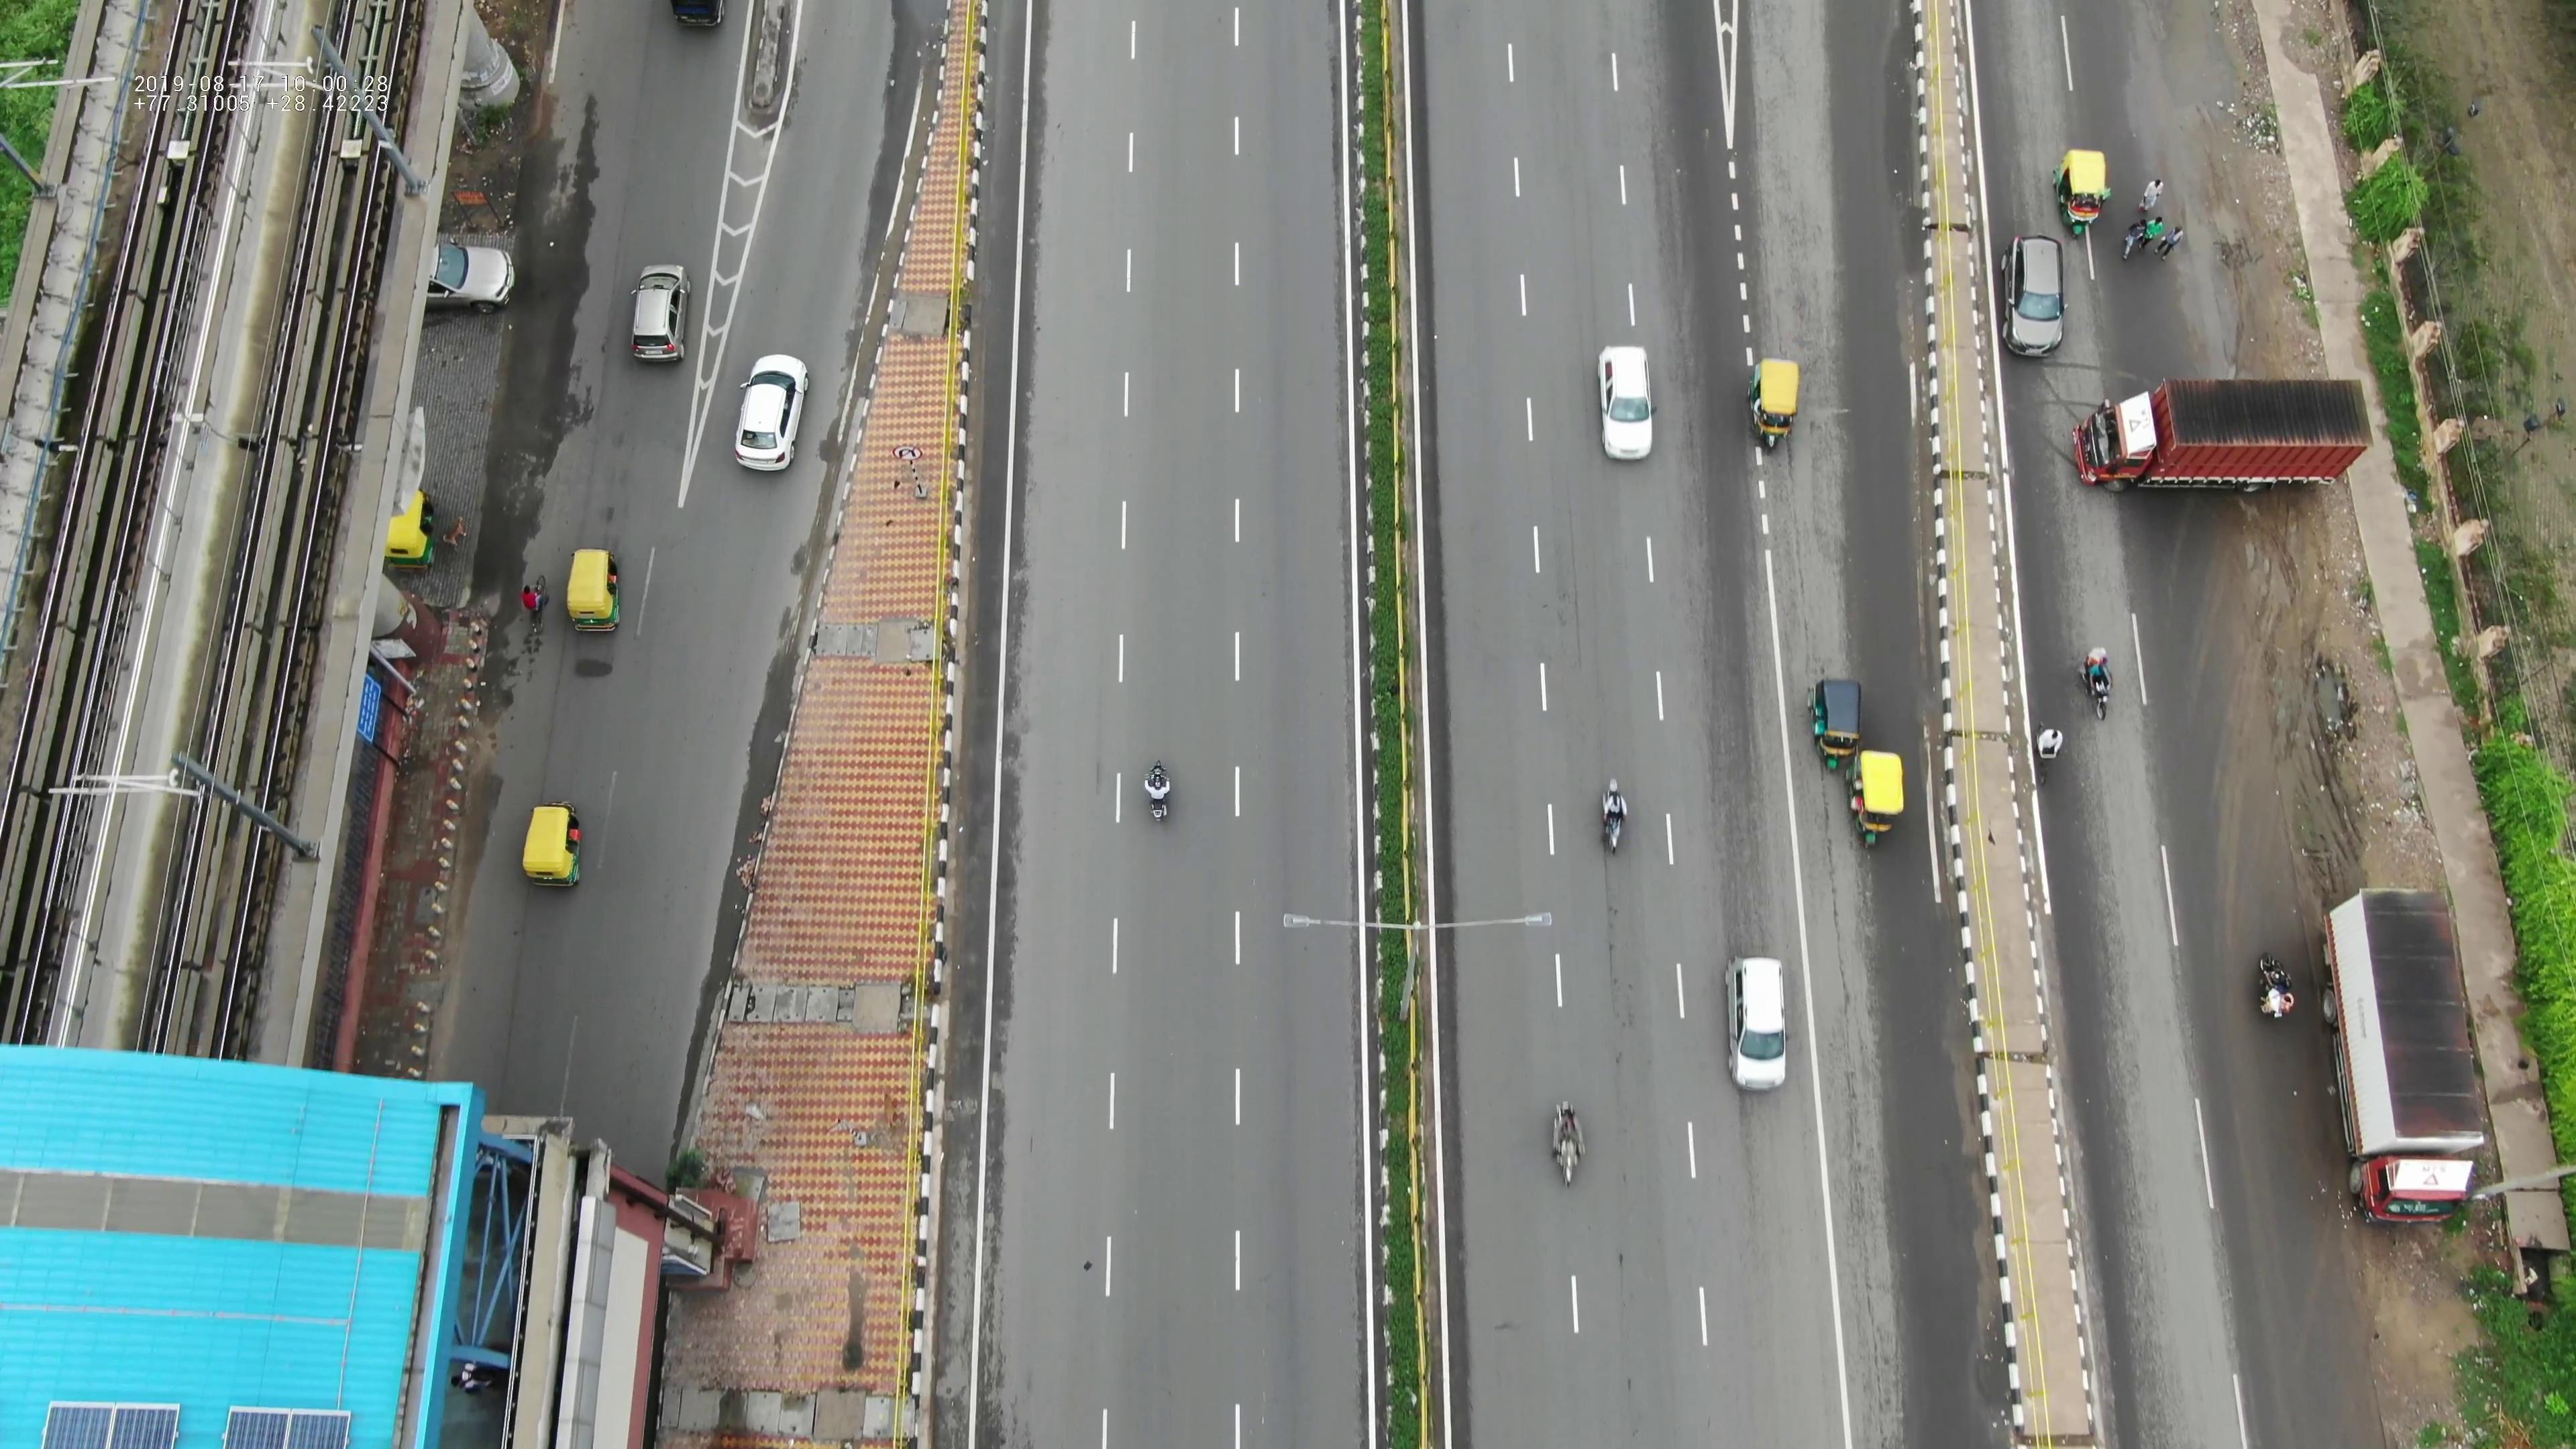Hair_cracks: (1815, 851, 1891, 1196), (1842, 1244, 1914, 1445)
Muddy_road: (2238, 600, 2364, 874)
Waterlogging: (1884, 30, 1936, 265), (1967, 1318, 2017, 1435)
